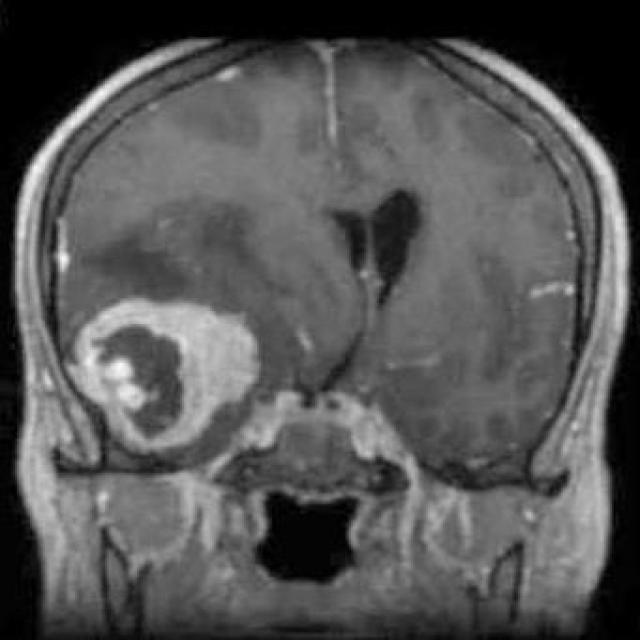Tumor: (68, 298, 259, 455)
